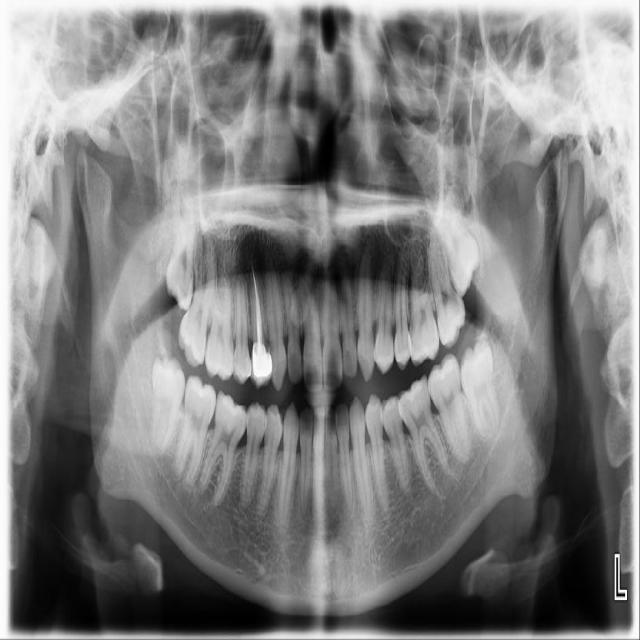Root Canal Treatment: (252, 272, 259, 340)
impacted tooth: (432, 194, 480, 295), (461, 339, 500, 438), (166, 195, 198, 308), (145, 360, 184, 452)
